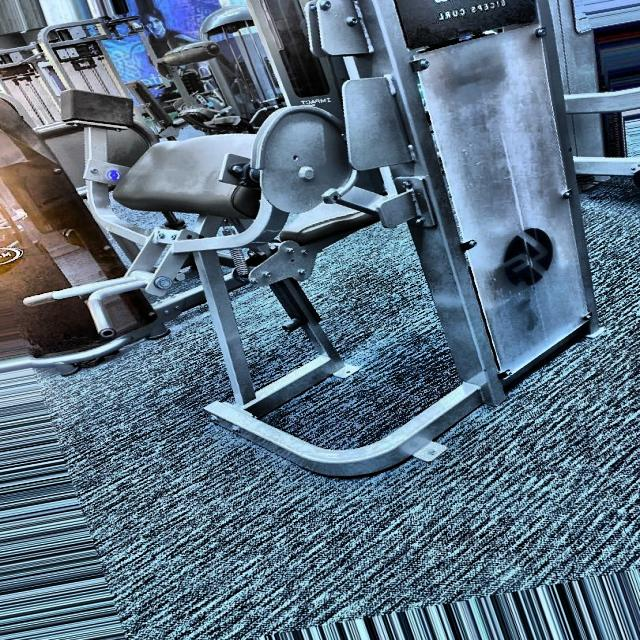bicep_curl_machine: (3, 9, 458, 514)
